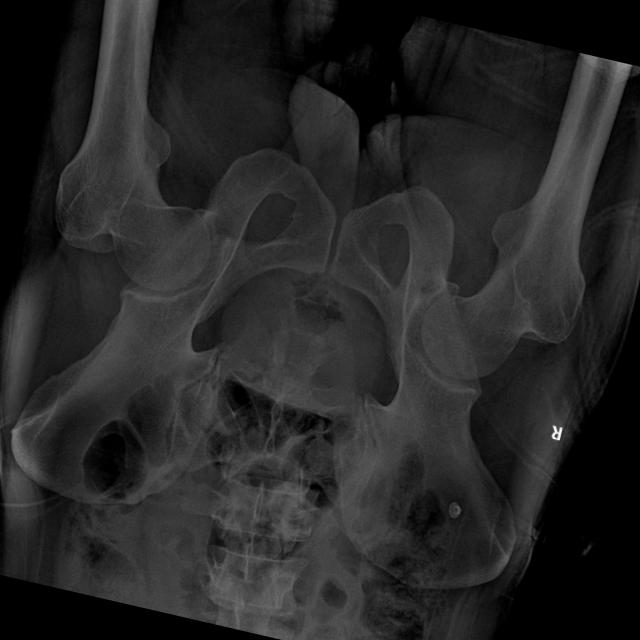normal-left: (54, 6, 209, 291)
normal-right: (419, 119, 608, 379)
